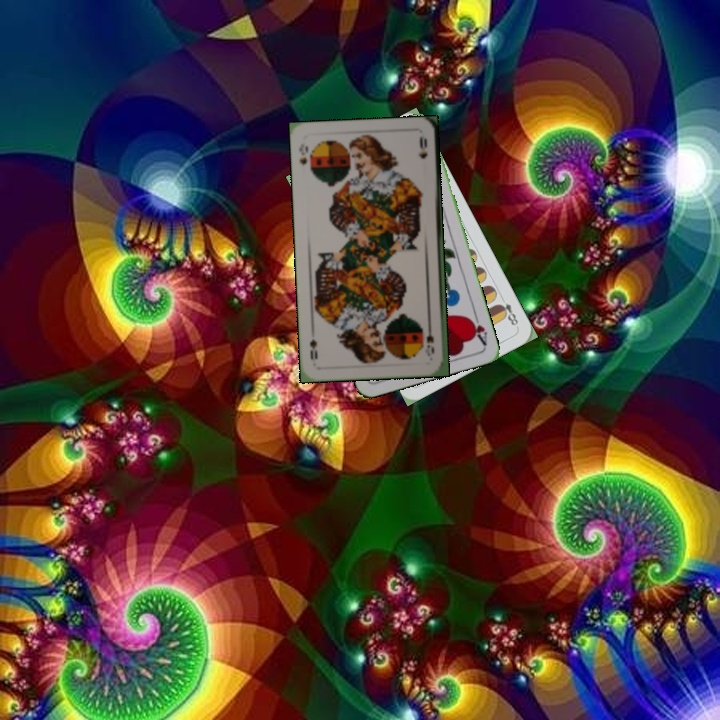E8: (494, 292, 521, 330)
HA: (465, 308, 490, 348)
SO: (423, 320, 437, 359), (295, 140, 310, 167)
